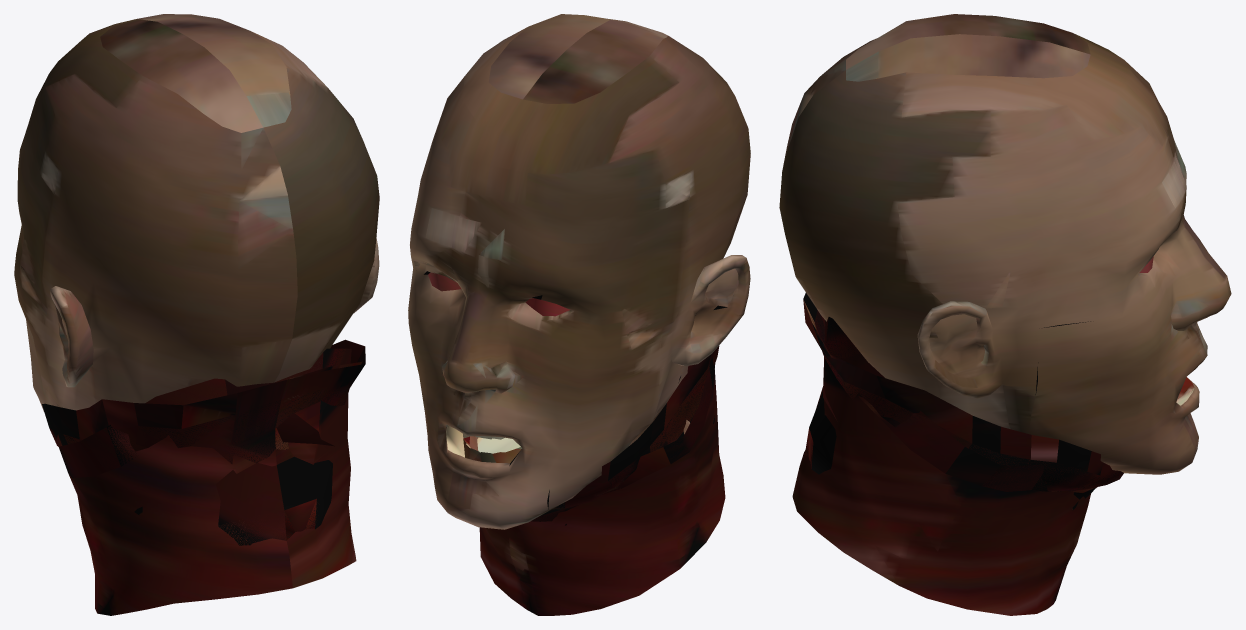
The picture shows the model from 3 angles, left to right: view 1: azimuth 30°, elevation 25°; view 2: azimuth 150°, elevation 25°; view 3: azimuth 270°, elevation 25°; orthographic projection. The views are drawn at different scales.
Parts seen in each view (by area): view 1: mesh_0; view 2: mesh_0; view 3: mesh_0.
Boxes of the visible parts, bbox=[...] form: mesh_0: bbox=[14, 14, 379, 615]; mesh_0: bbox=[408, 14, 750, 615]; mesh_0: bbox=[779, 14, 1231, 615].
Bounding box in the file's own units: 7.26 × 12.94 × 9.37.
1 material, 1 textured.
